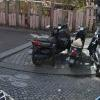Motorcycle: (23, 18, 100, 71)
